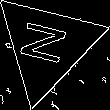N_E: (18, 20, 76, 72)
